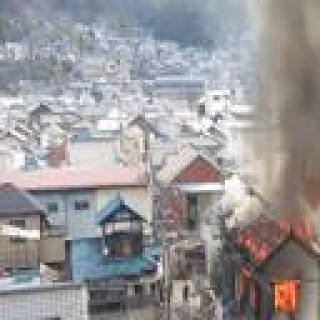fire: (232, 241, 311, 320)
